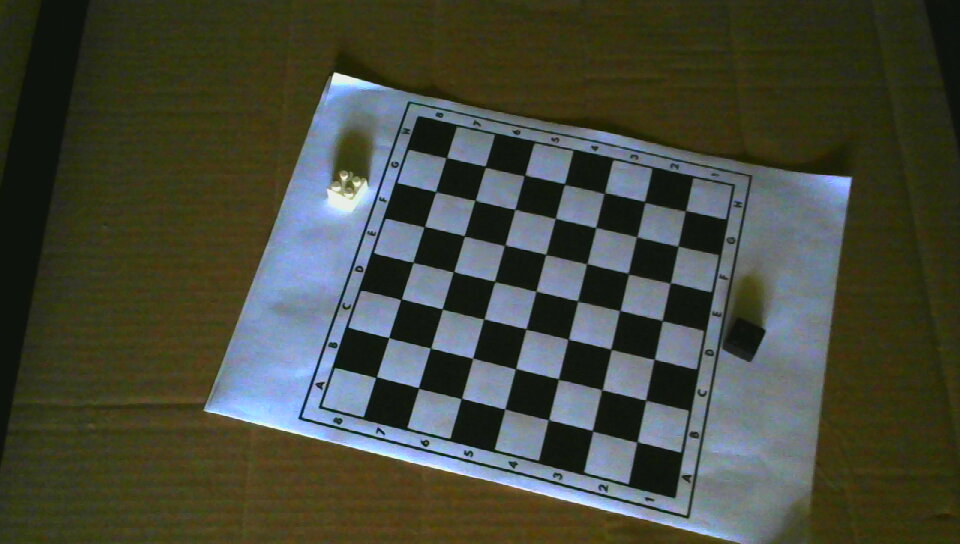bp: (723, 316, 766, 362)
wp: (325, 168, 368, 210)
